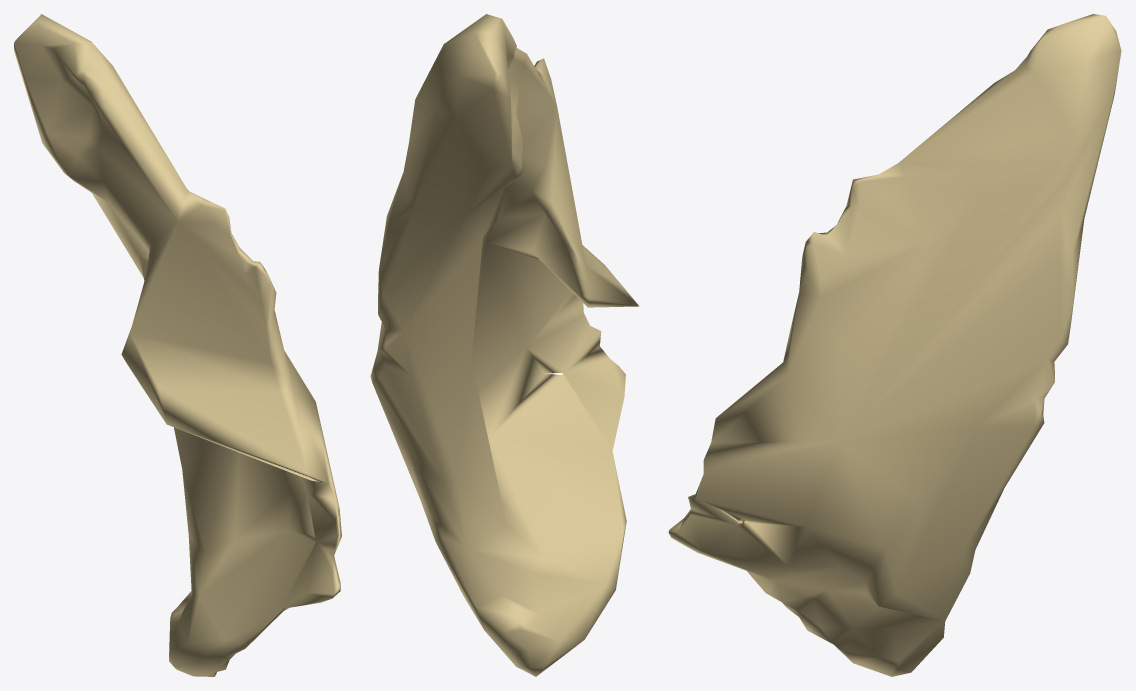
3 renders of one model, left to right at view 1: azimuth 30°, elevation 25°; view 2: azimuth 150°, elevation 25°; view 3: azimuth 270°, elevation 25°, orthographic. The views are drawn at different scales.
Visible parts, largest first — view 1: 右侧下鼻甲; view 2: 右侧下鼻甲; view 3: 右侧下鼻甲.
Boxes of the visible parts, bbox=[...] form: 右侧下鼻甲: bbox=[14, 14, 341, 676]; 右侧下鼻甲: bbox=[370, 14, 638, 676]; 右侧下鼻甲: bbox=[668, 14, 1121, 676].
Size of the model in its own units: 0.0154 by 0.051 by 0.0332.
